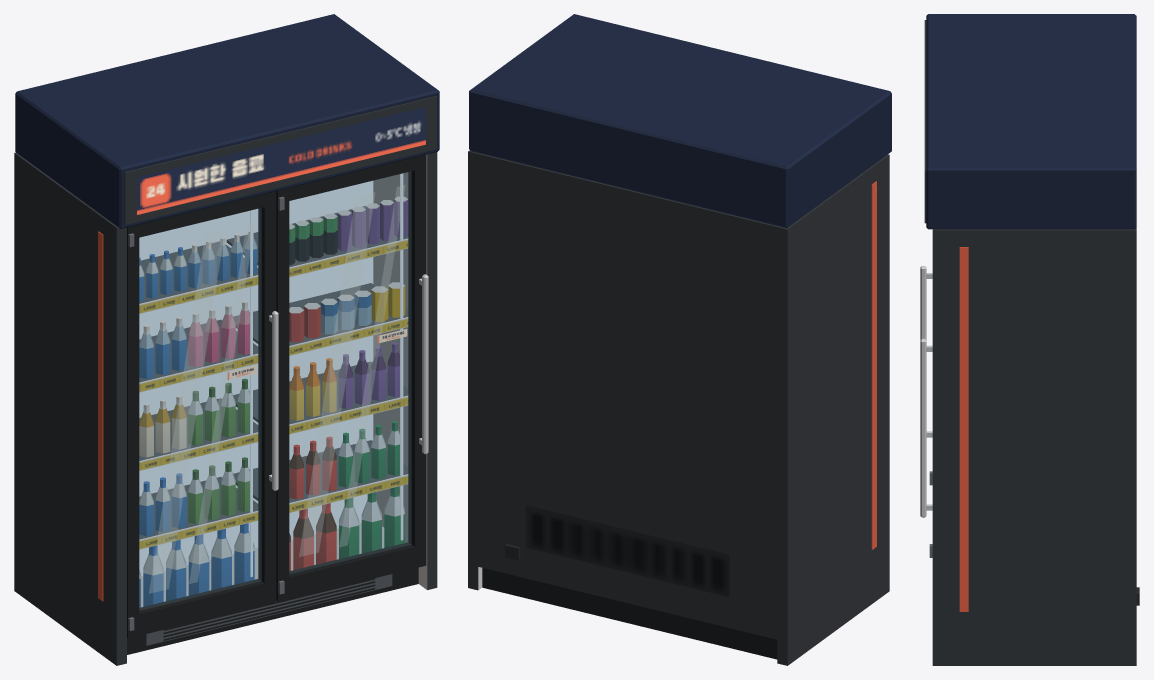
The model's file is SC_Fix_Fridge_Drinks_2Door.gltf.
The picture shows the model from 3 angles, left to right: view 1: azimuth 30°, elevation 25°; view 2: azimuth 150°, elevation 25°; view 3: azimuth 270°, elevation 25°; orthographic projection.
Parts seen in each view (by area): view 1: SC_Fix_Fridge_Drinks_2Door; view 2: SC_Fix_Fridge_Drinks_2Door; view 3: SC_Fix_Fridge_Drinks_2Door.
Boxes of the visible parts, bbox=[...] form: SC_Fix_Fridge_Drinks_2Door: bbox=[14, 14, 439, 665]; SC_Fix_Fridge_Drinks_2Door: bbox=[468, 14, 891, 665]; SC_Fix_Fridge_Drinks_2Door: bbox=[920, 14, 1139, 665].
Size of the model in its own units: 1.42 by 2.1 by 0.84.
Materials: 5 (5 with a texture image).
